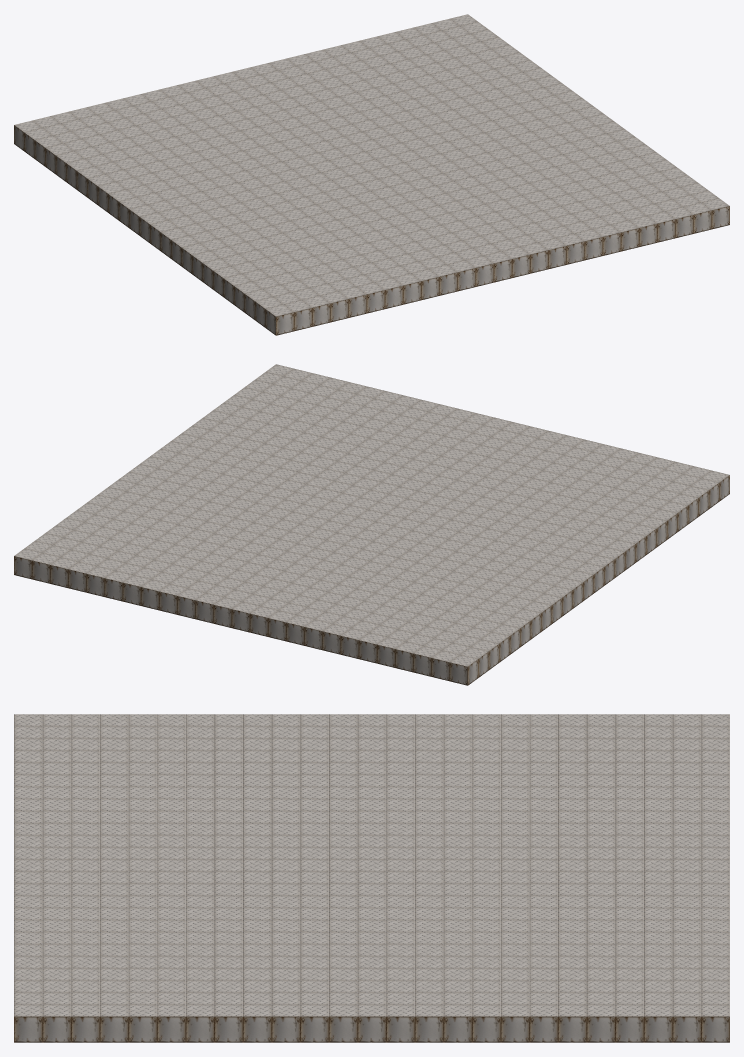
Rendered from StageGameSelect.fbx.
The picture shows the model from 3 angles, top to bottom: view 1: azimuth 30°, elevation 25°; view 2: azimuth 150°, elevation 25°; view 3: azimuth 270°, elevation 25°; orthographic projection. The views are drawn at different scales.
Parts seen in each view (by area): view 1: Terrain; view 2: Terrain; view 3: Terrain.
Boxes of the visible parts, left/top/right/bottom form: Terrain: left=14, top=14, right=729, bottom=335; Terrain: left=14, top=364, right=729, bottom=685; Terrain: left=14, top=714, right=729, bottom=1042.
Bounding box in the file's own units: 25 × 1 × 25.
Materials: 1 (1 with a texture image).
